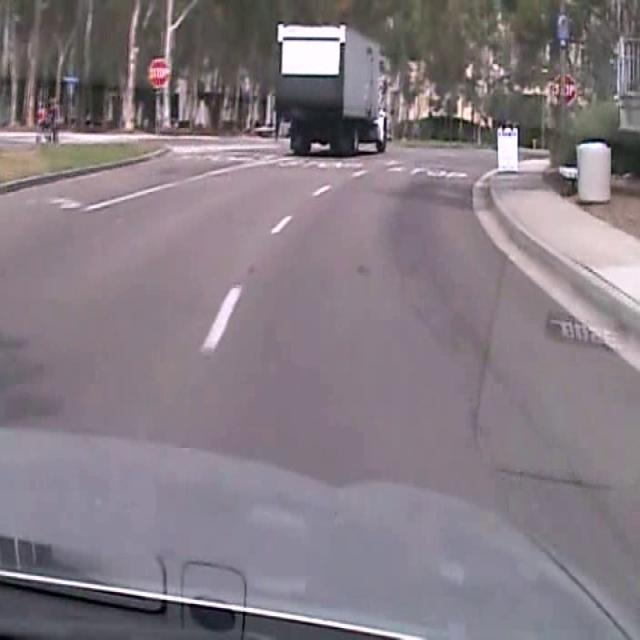stop_sign: (552, 72, 574, 105), (148, 56, 169, 88)
